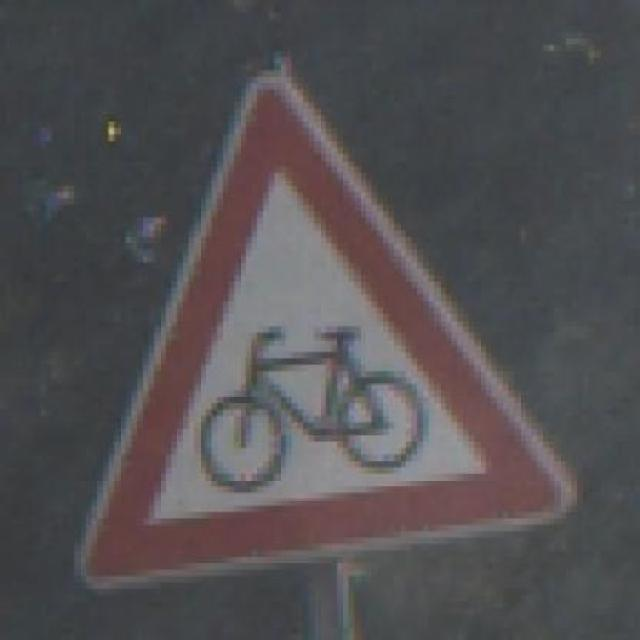CYCLE ROUTE AHEAD WARNING: (63, 51, 583, 589)
